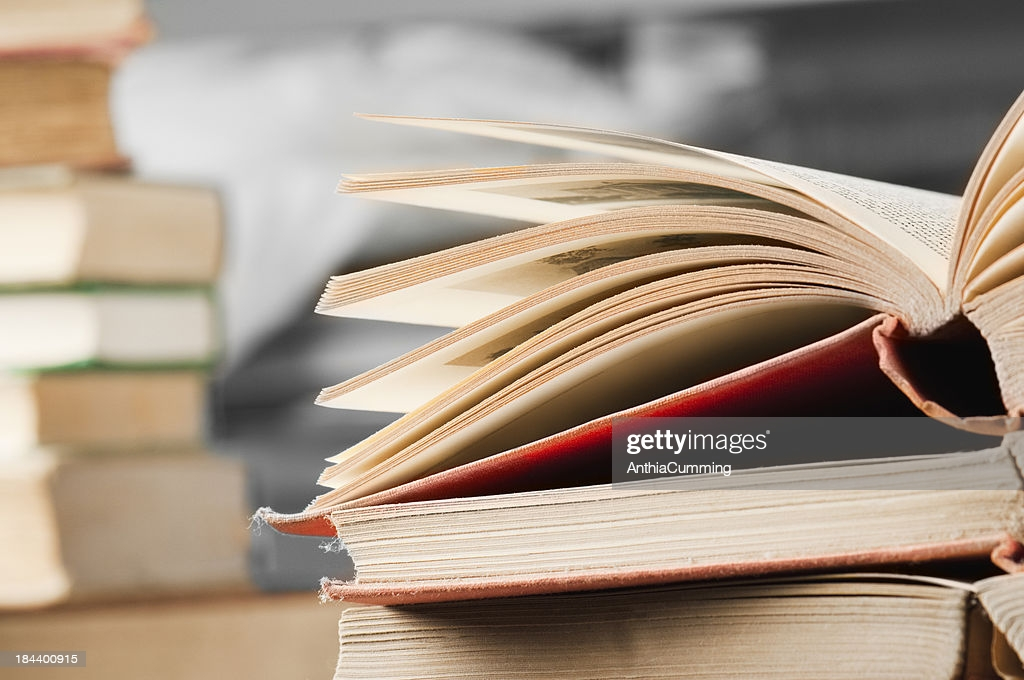Open Book: (328, 81, 1024, 481)
